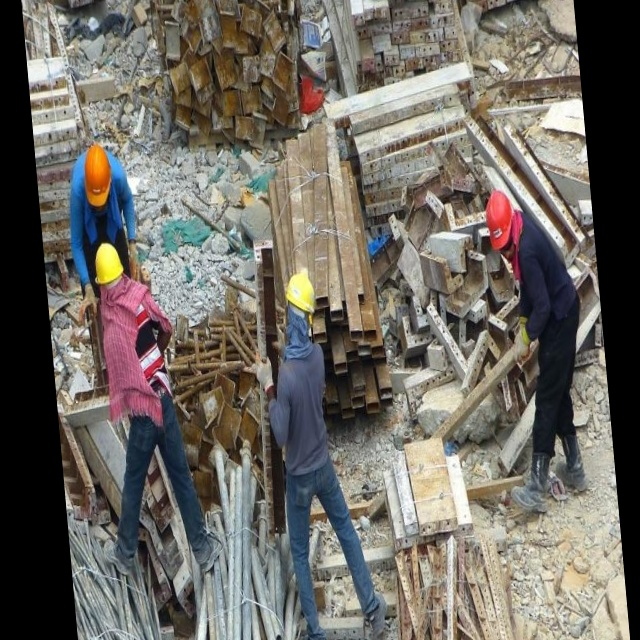Con_Casco: (278, 261, 320, 348), (78, 141, 115, 212), (484, 190, 518, 267)
